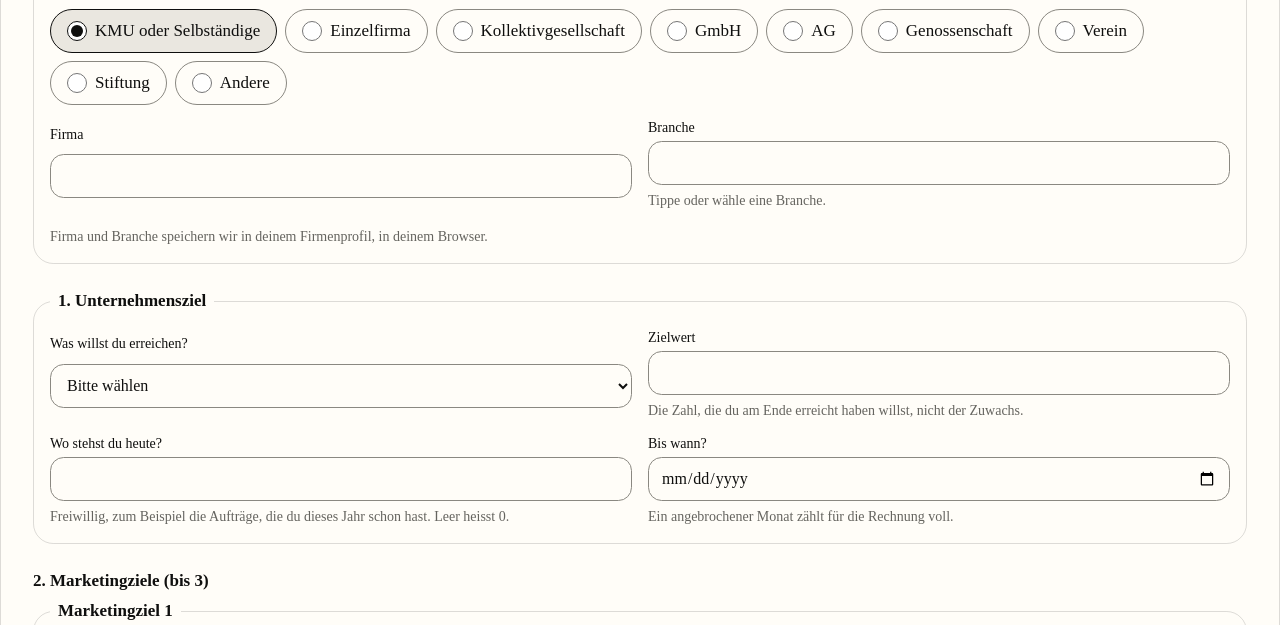
Test: Ziel- und KPI-Baum: Formular › zeigt die Rückwärtsrechnung nur bei Kundschaft und Aufträgen
(page scrolled)
Expected: the text "3. Rückwärtsrechnung (freiwillig)" is not shown
Select "Umsatz in CHF" in the dropdown with id "kb-art": (341, 386) [50,364,632,408]
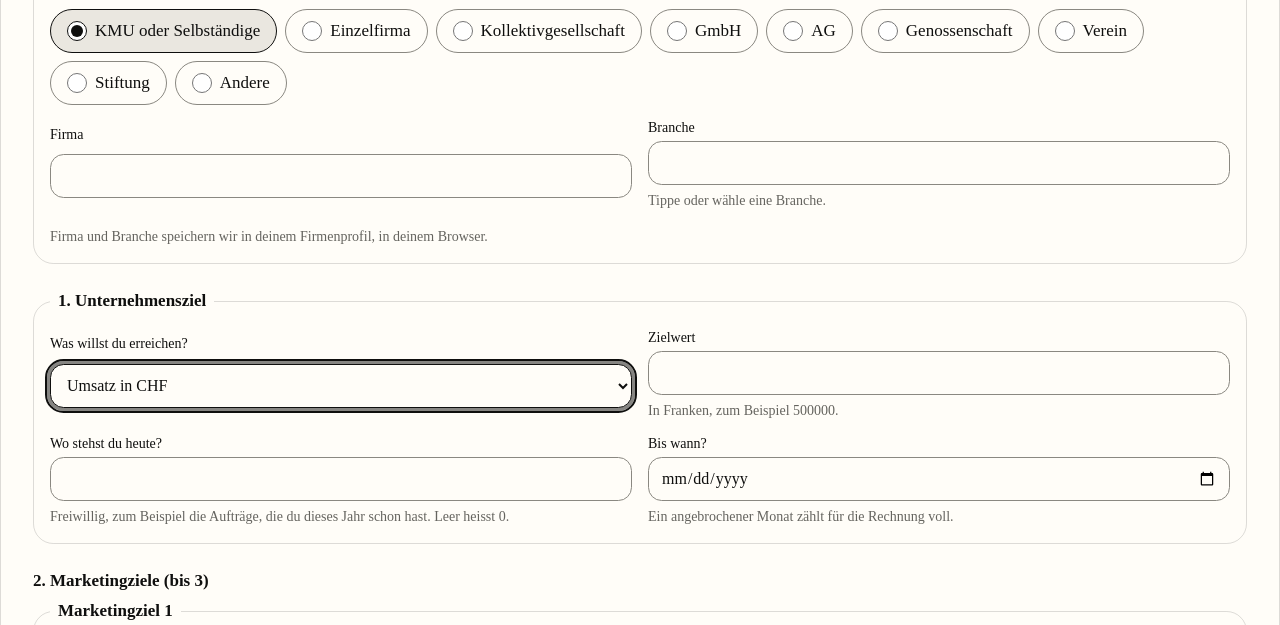
Expected: the text "3. Rückwärtsrechnung (freiwillig)" is not shown
Select "Neue Kundinnen und Kunden" in the dropdown with id "kb-art": (341, 386) [50,364,632,408]
(page scrolled)
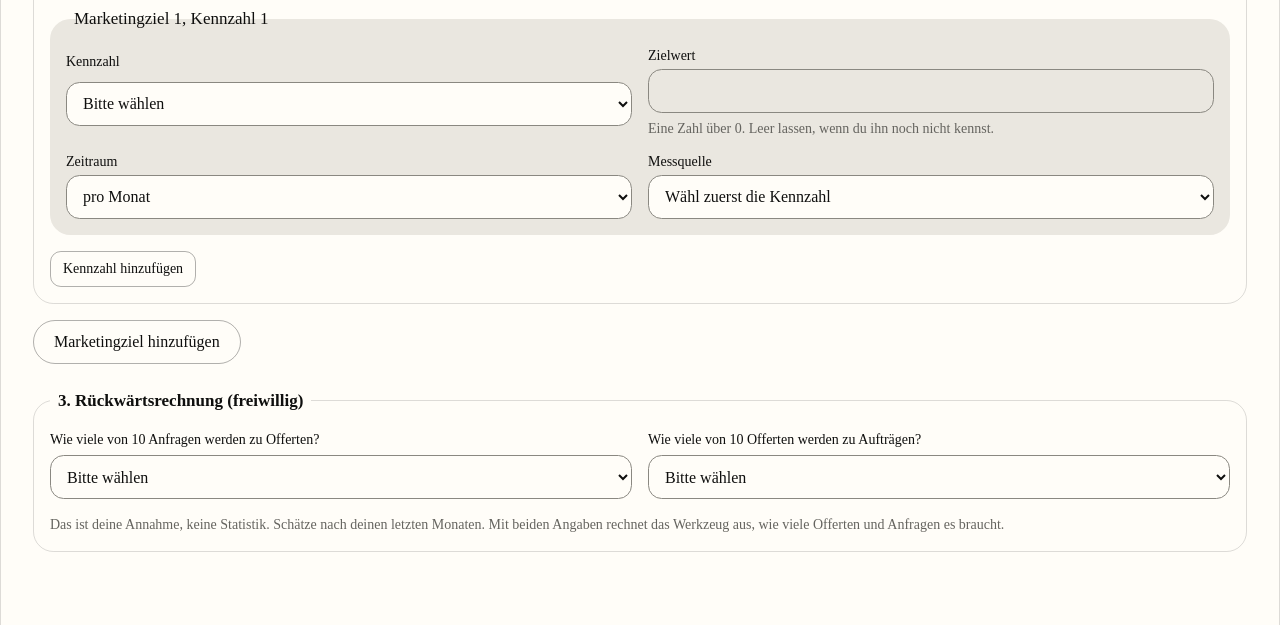
Now the text "3. Rückwärtsrechnung (freiwillig)" is shown, box [50,388,311,414]
Select "5 von 10" in the dropdown labelled "Wie viele von 10 Anfragen werden zu Offerten?": (341, 477) [50,455,632,499]
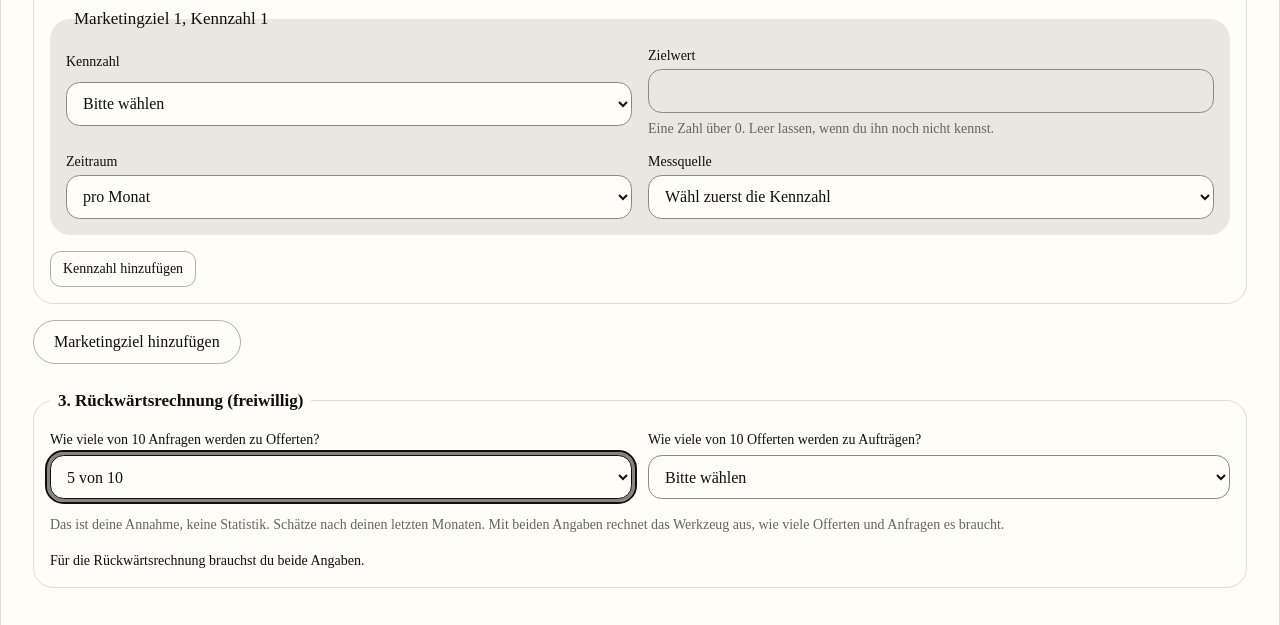
Now the message "Für die Rückwärtsrechnung brauchst du beide Angaben." is shown, box [50,553,364,568]
Select "4 von 10" in the dropdown labelled "Wie viele von 10 Offerten werden zu Aufträgen?": (939, 477) [648,455,1230,499]
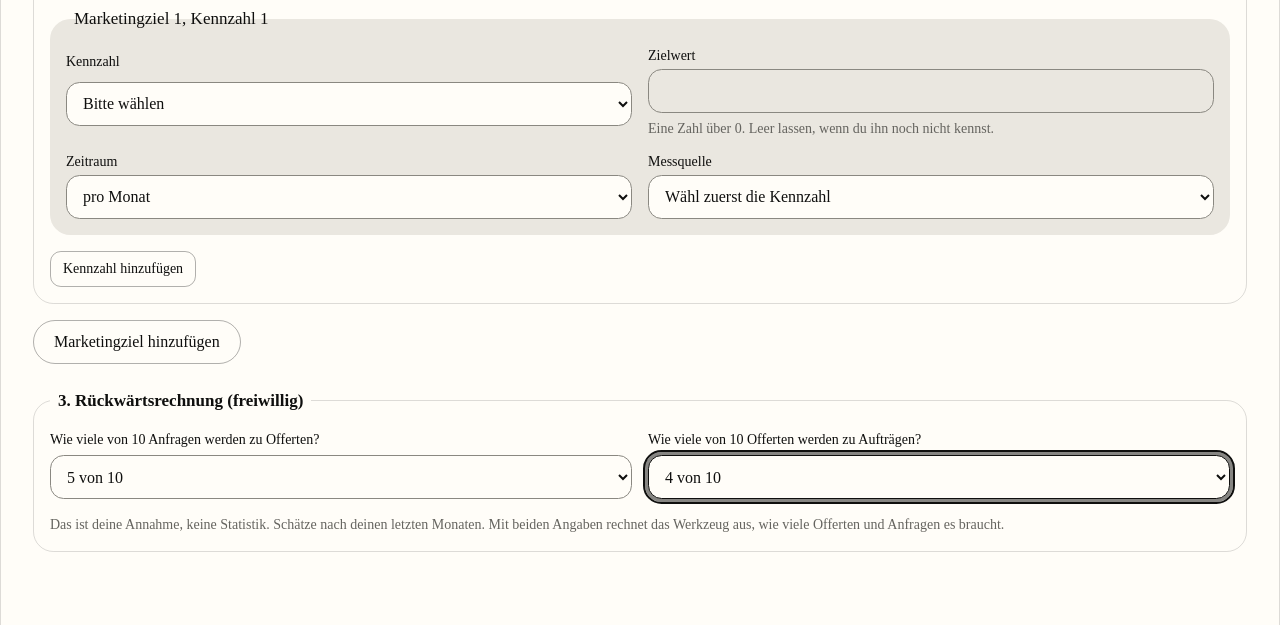
Now the text "Für die Rückwärtsrechnung brauchst du beide Angaben." is gone
